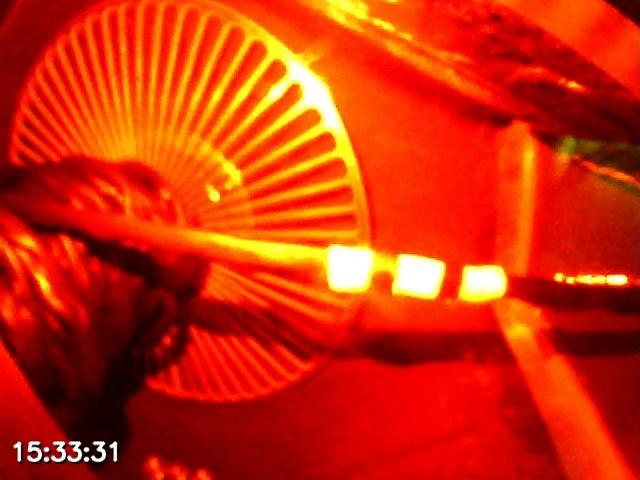white-dots: (325, 243, 507, 304)
